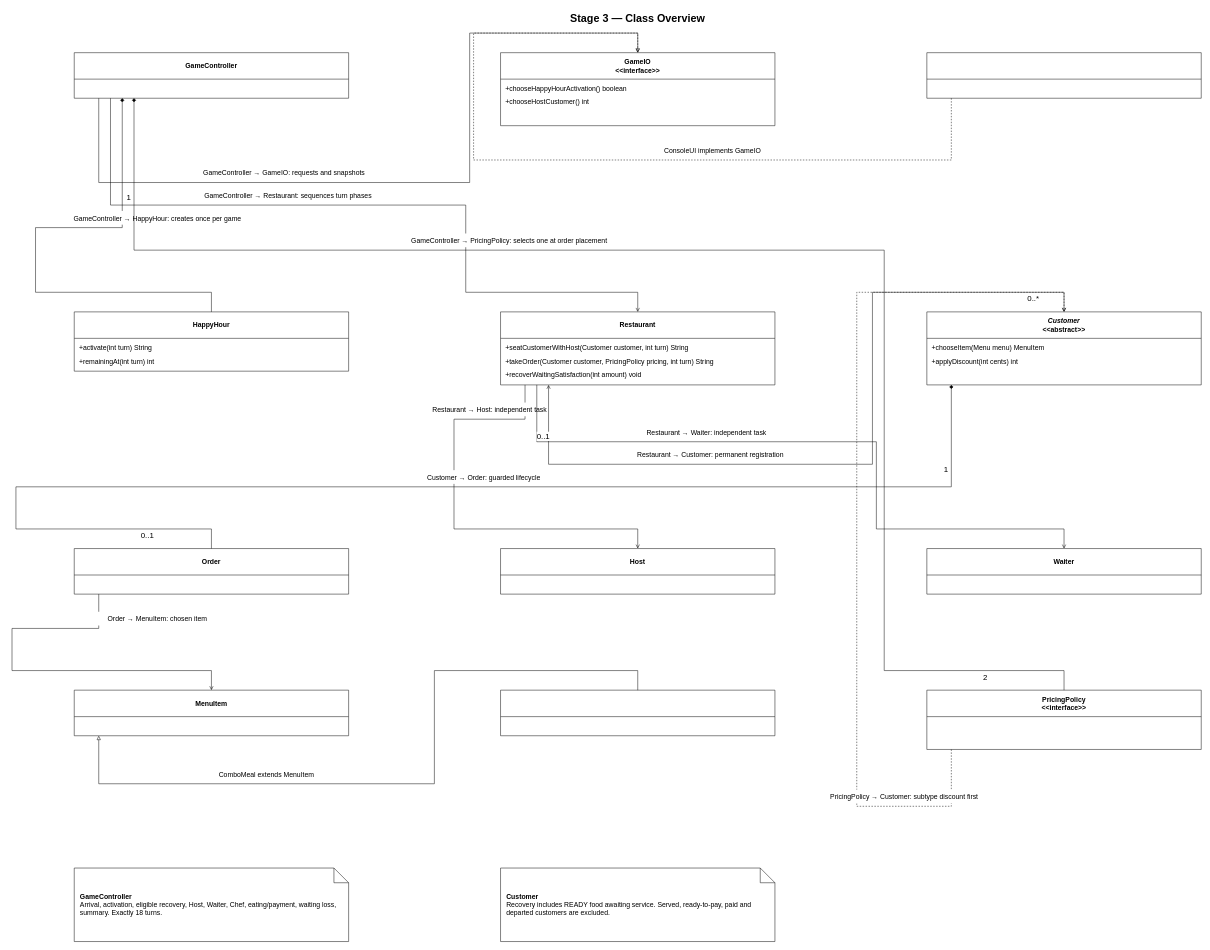
The diagram is 1210 pixels wide and 950 high, and some of its shapes have lost their labels. The centre of each missing label's shape, as x and y in pixels:
"+priceFor(Customer customer, MenuItem item) int" belongs at pixel 1064 724.
"+run() void" belongs at pixel 211 87.
"-int billCents" belongs at pixel 211 583.
"ComboMeal" belongs at pixel 637 713.
"ConsoleUI" belongs at pixel 1063 75.
